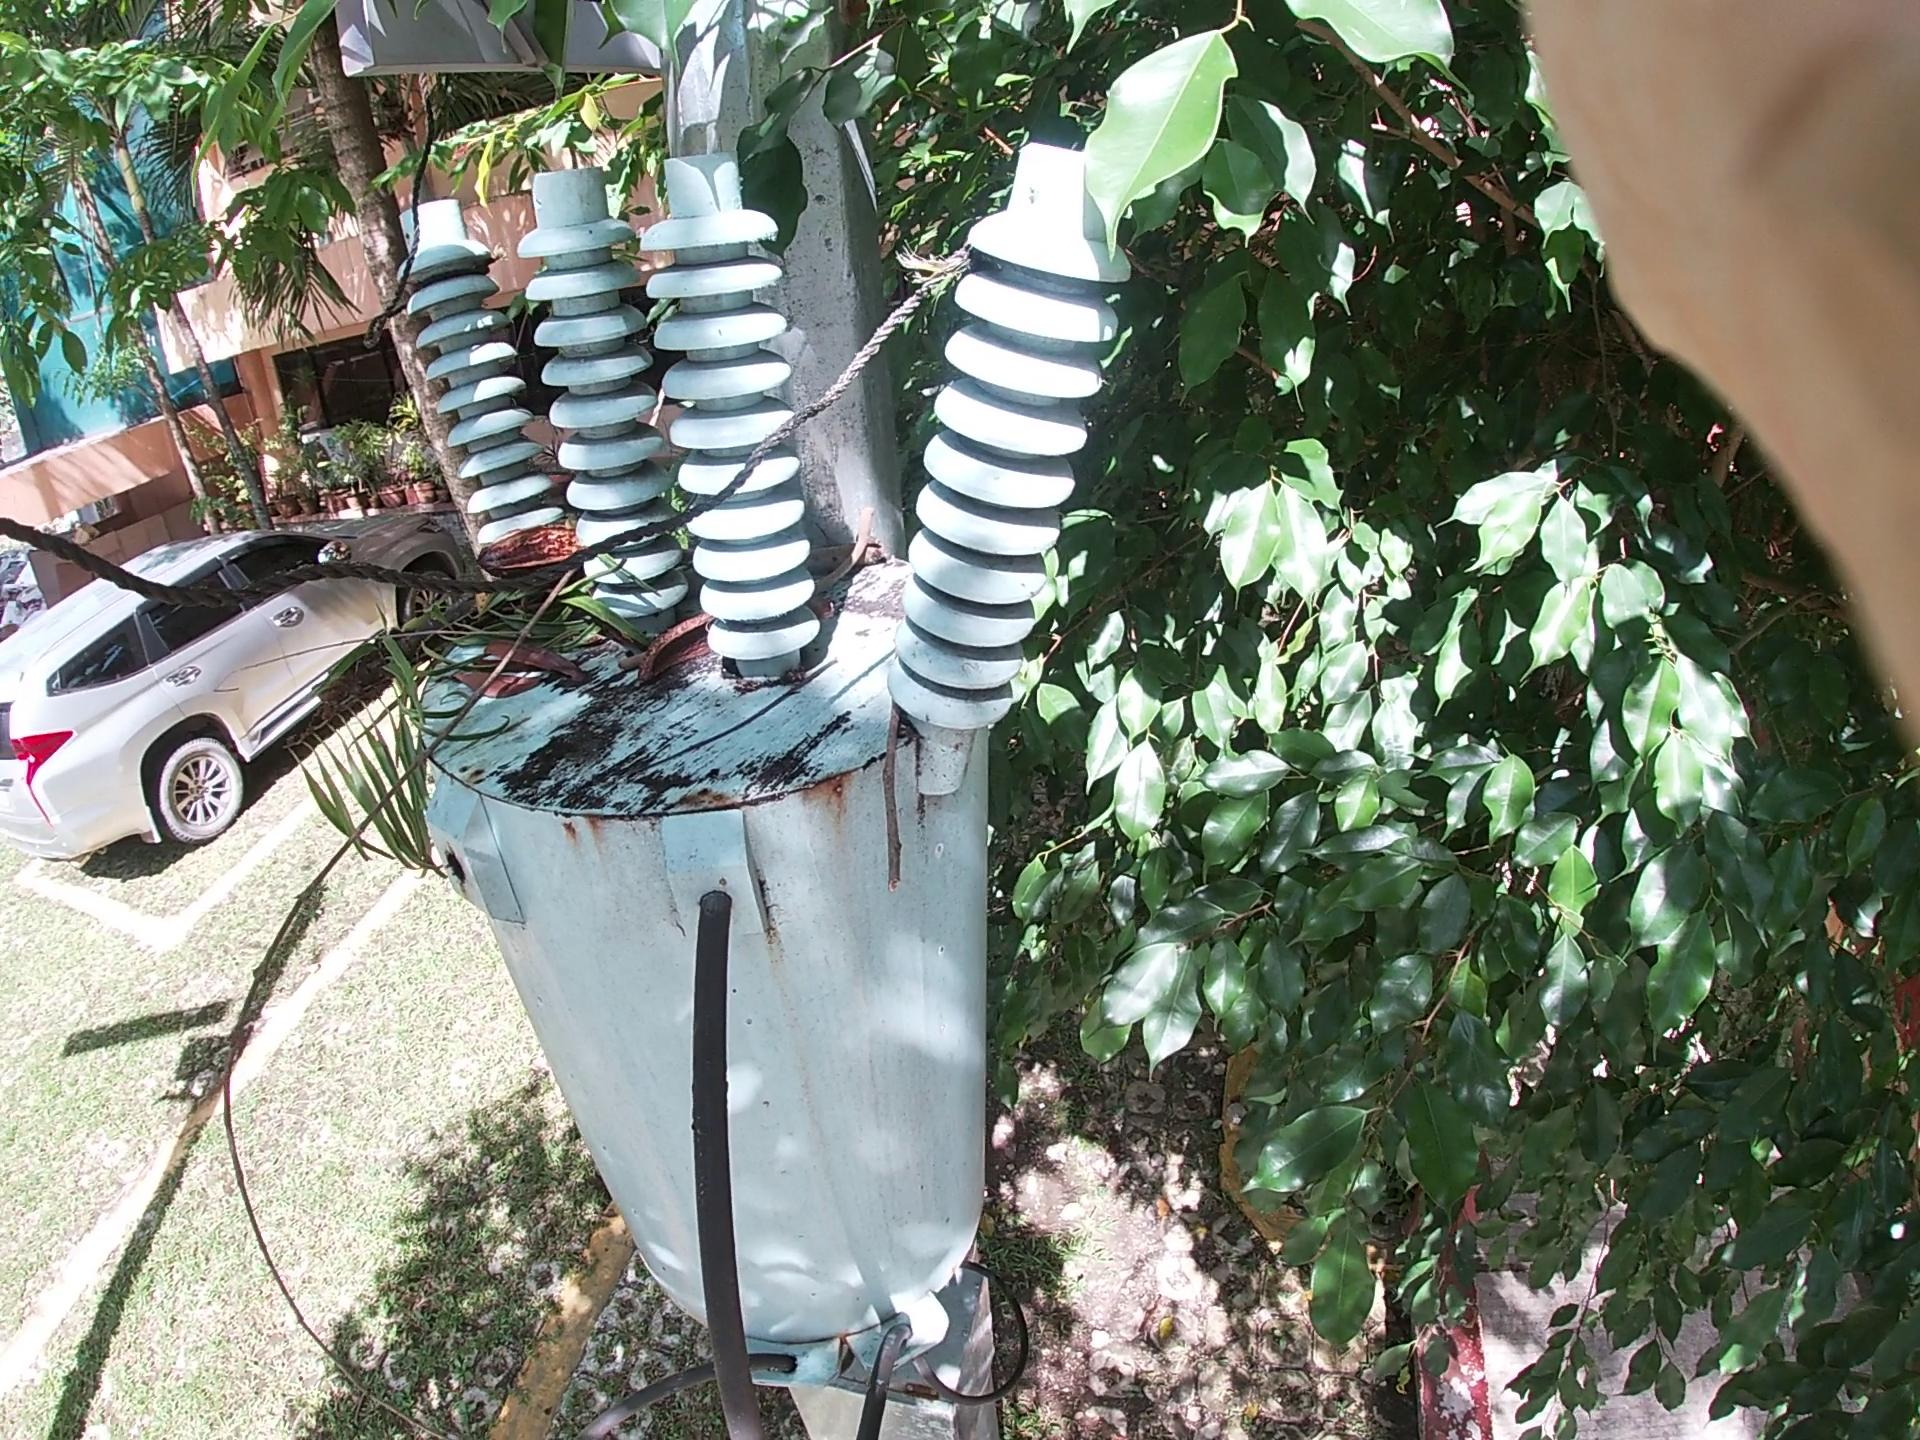branch with leaves: (305, 473, 643, 694)
leaf: (470, 611, 643, 773)
mahogany fruit: (603, 591, 732, 759), (460, 511, 559, 611)
tree branch: (221, 517, 621, 1171), (623, 486, 912, 693), (884, 604, 971, 864)
